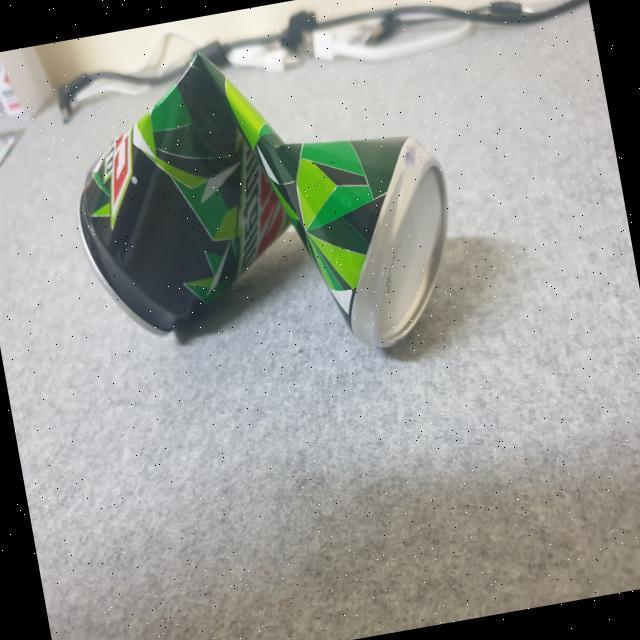can: (36, 0, 493, 416)
